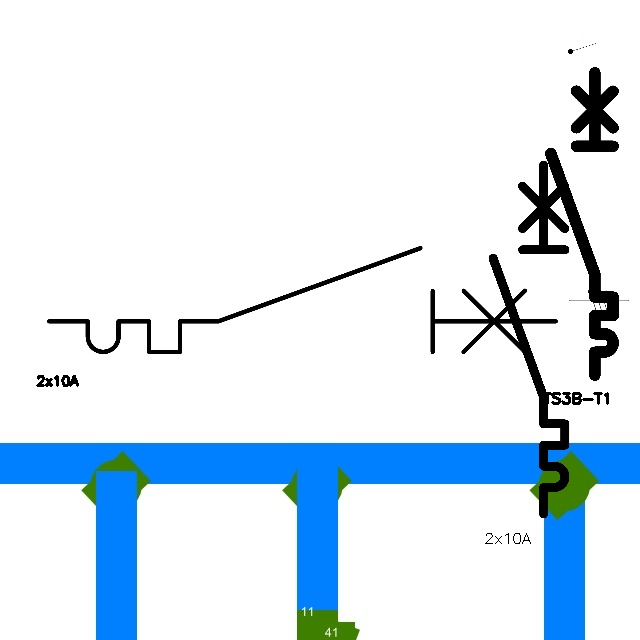interruptor_termomagnetico: (36, 235, 569, 365), (484, 156, 574, 523), (543, 65, 621, 383)
